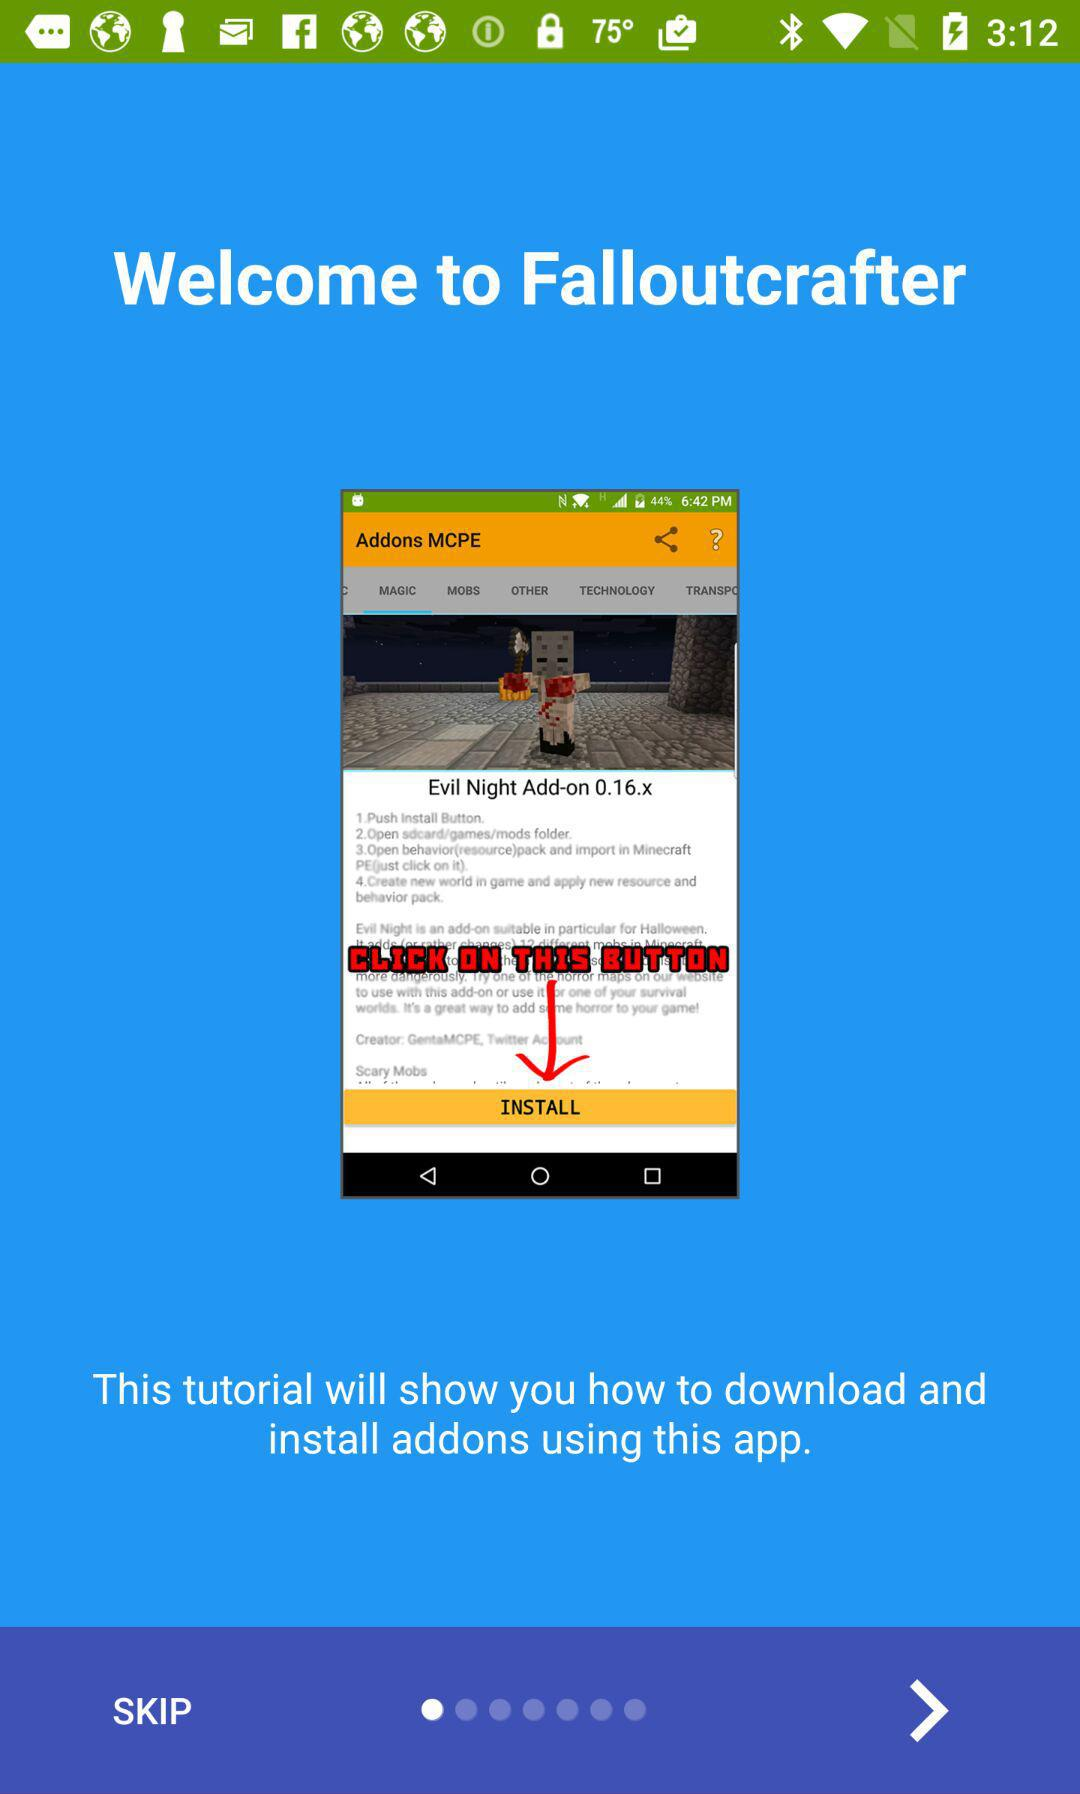Icon: (908, 1677, 951, 1744)
Image: (340, 490, 740, 1199)
PageIndicator: (419, 1697, 650, 1724)
Text: (90, 1371, 988, 1466), (111, 249, 969, 308), (114, 1697, 193, 1726)
UpperTaskBar: (1, 1, 1080, 64)
